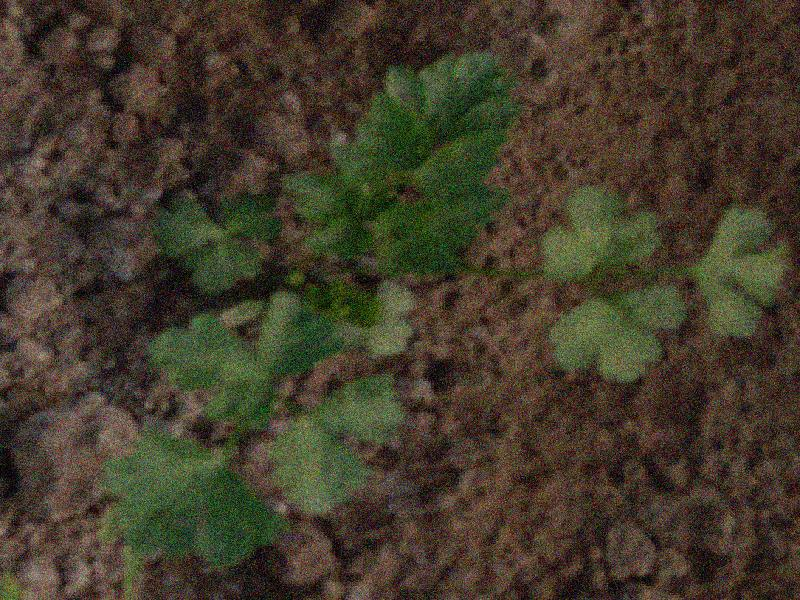radish: (98, 49, 790, 571)
